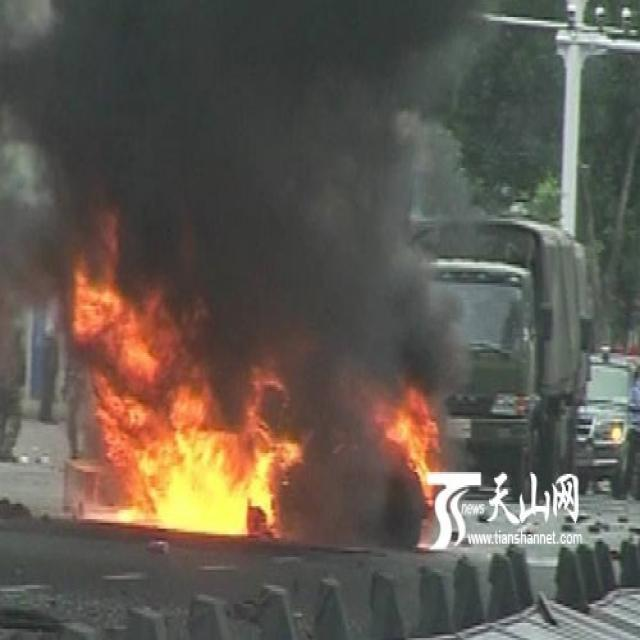Fire: (68, 221, 304, 538), (378, 377, 442, 508)
Smoke: (1, 2, 497, 229), (213, 238, 464, 382)
